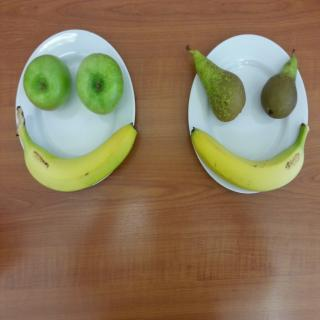Apple: (76, 51, 124, 114), (26, 52, 73, 112)
Banana: (15, 105, 138, 193), (190, 122, 309, 192)
Pear: (193, 49, 245, 122), (260, 54, 299, 118)
